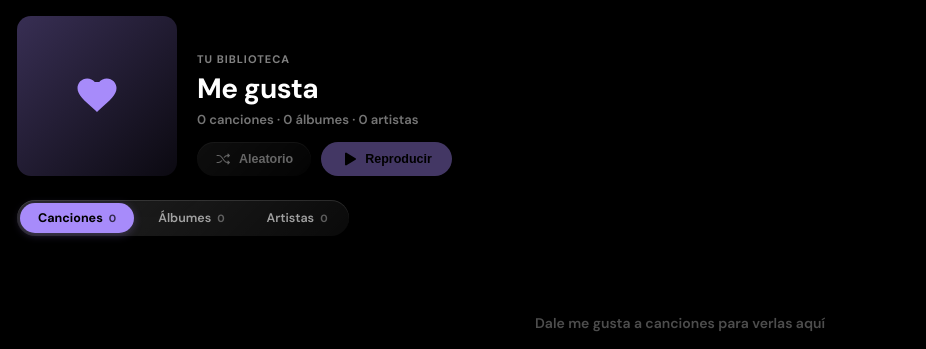
LikedView › should show empty state in Artistas tab when none followed
The width and height of the screenshot is (926, 349).
Click the tab "Artistas 0" at coordinates (297, 218), box [249, 203, 346, 233]
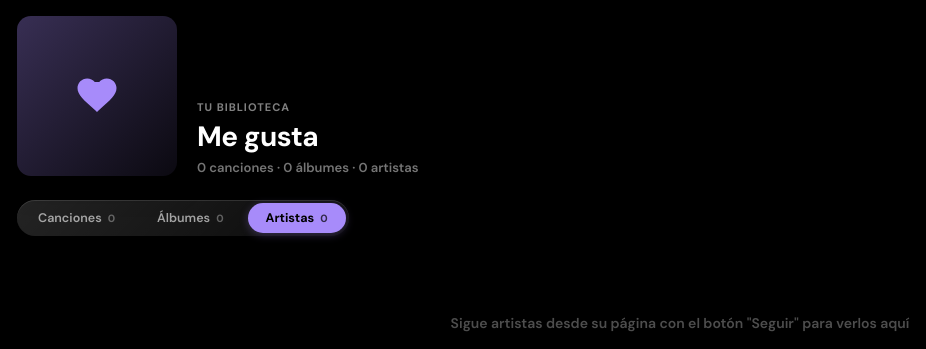
Result: the text "Sigue artistas" is shown at [451, 314, 909, 332]
